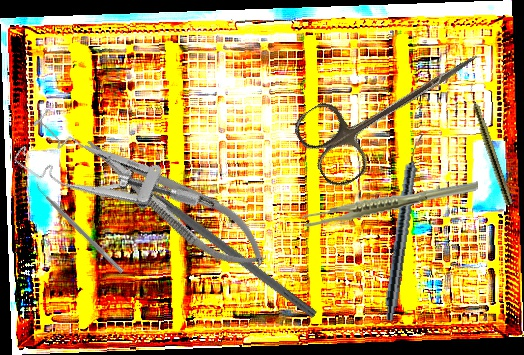Chopper: (124, 160, 326, 320)
Handpiece: (382, 133, 426, 322), (464, 82, 515, 206)
Iris Scissors: (289, 17, 497, 194)
Needle Holder: (72, 121, 278, 283)
Spatula Surgical: (31, 179, 128, 275)
Speculum: (7, 92, 205, 262)
Tissue Forceps: (301, 179, 479, 229)
